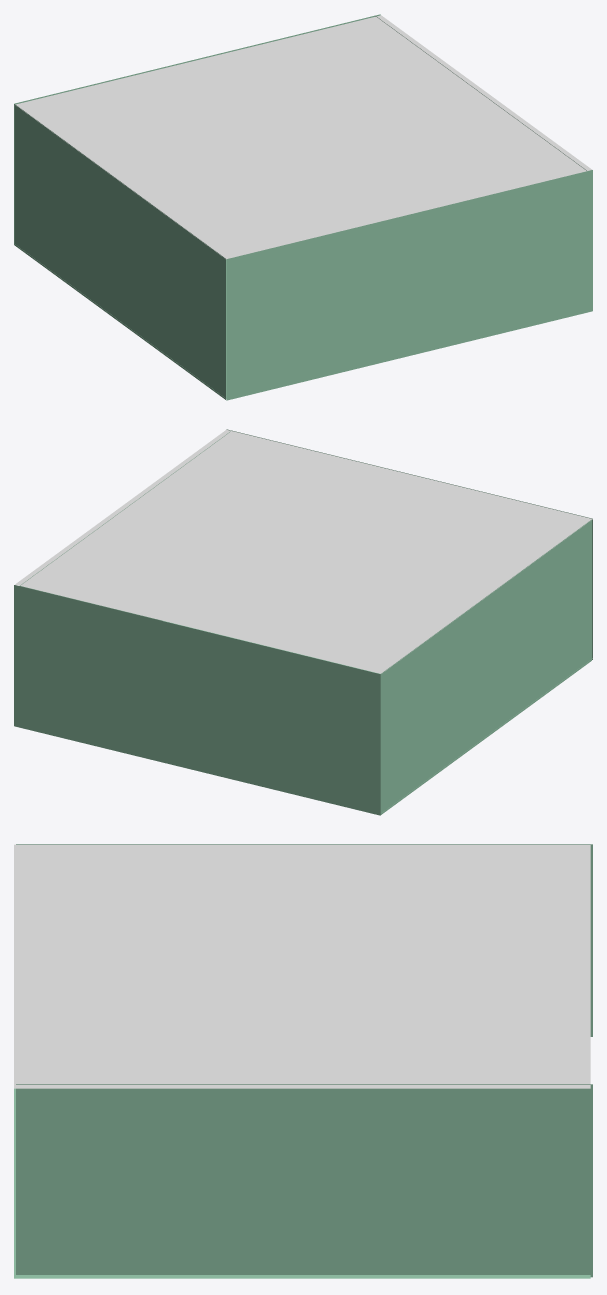
The model's file is Room2.gltf.
3 views of the same model, one above another, from view 1: azimuth 30°, elevation 25°; view 2: azimuth 150°, elevation 25°; view 3: azimuth 270°, elevation 25° (orthographic). The views are drawn at different scales.
Visible parts, largest first — view 1: Plane.007, Plane.004, Plane.006, Plane.003; view 2: Plane.007, Plane.003, Plane.006, Plane.004; view 3: Plane.007, Plane.005, Plane.002, Plane.006.
Boxes of the visible parts, box(x1,y1,x2,y2) form: Plane.007: box(15, 15, 592, 259); Plane.004: box(226, 170, 592, 400); Plane.006: box(14, 104, 225, 399); Plane.003: box(14, 14, 380, 244); Plane.007: box(15, 429, 592, 673); Plane.003: box(14, 585, 380, 815); Plane.006: box(380, 519, 591, 814); Plane.004: box(226, 429, 592, 659); Plane.007: box(14, 844, 590, 1088); Plane.005: box(16, 1084, 592, 1277); Plane.002: box(14, 1088, 590, 1278); Plane.006: box(16, 844, 592, 1036).
Bounding box in the file's own units: 67.43 × 24.87 × 67.69.
